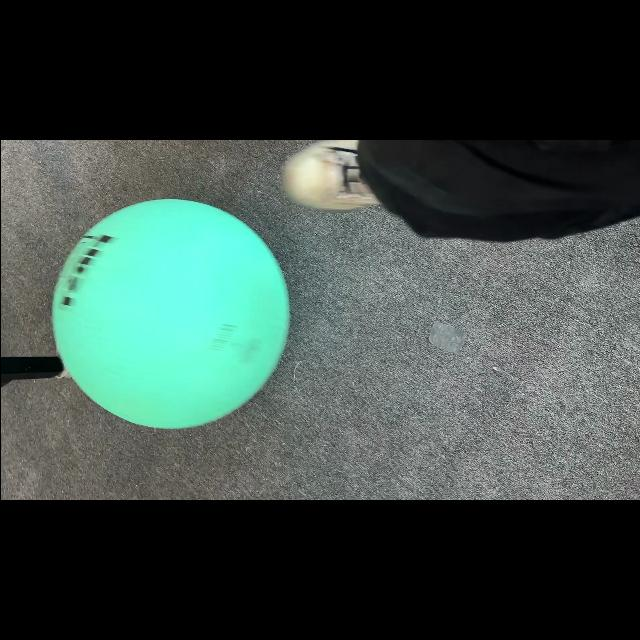ALGAE: (50, 198, 290, 430)
